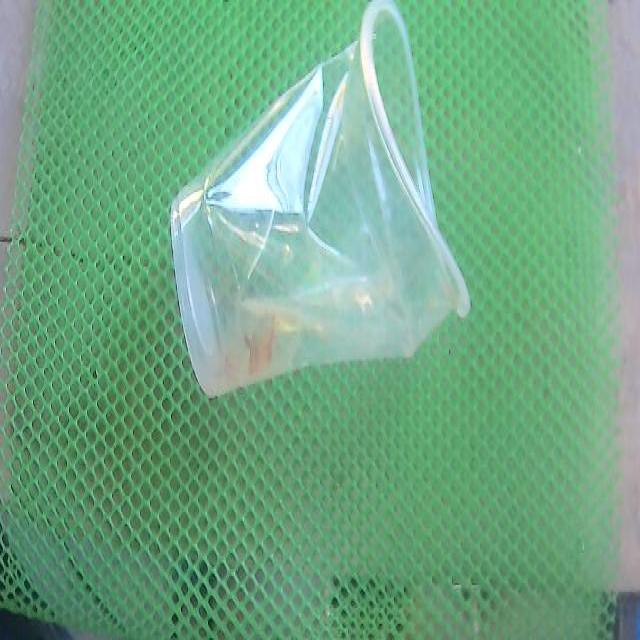bottle: (172, 0, 470, 394)
